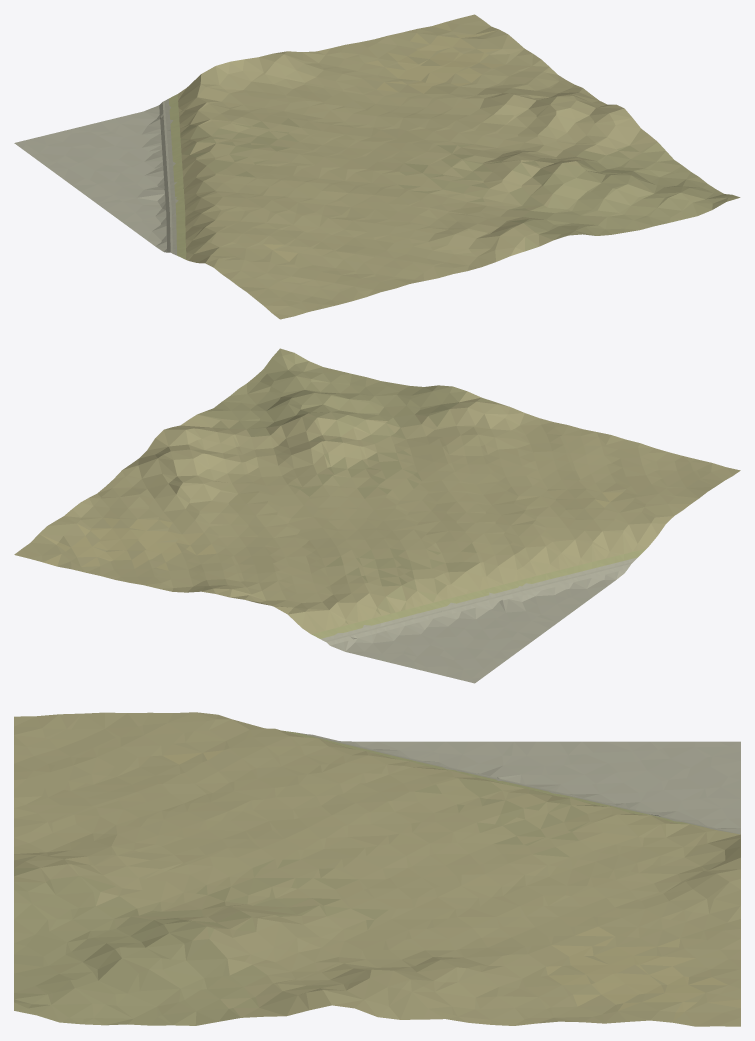
Rendered from Ground_-1_1.glb.
3 views of the same model, one above another, from view 1: azimuth 30°, elevation 25°; view 2: azimuth 150°, elevation 25°; view 3: azimuth 270°, elevation 25° (orthographic). The views are drawn at different scales.
Visible parts, largest first — view 1: Ground_-1_1; view 2: Ground_-1_1; view 3: Ground_-1_1.
Boxes of the visible parts, left/top/right/bottom form: Ground_-1_1: left=14, top=14, right=740, bottom=319; Ground_-1_1: left=14, top=348, right=740, bottom=683; Ground_-1_1: left=14, top=712, right=740, bottom=1026.
Size of the model in its own units: 768 by 58.65 by 768.
